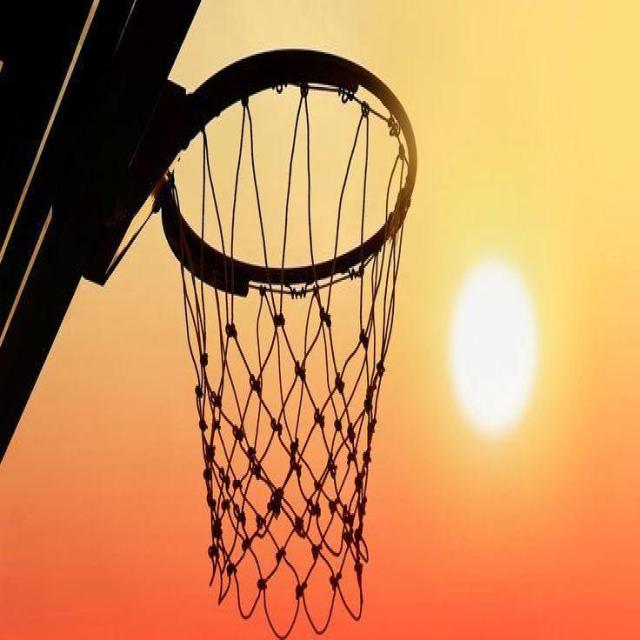hoop: (157, 33, 425, 605)
